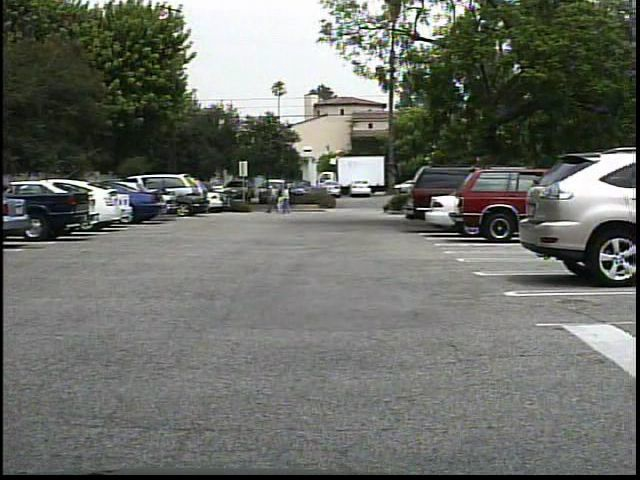person: (265, 184, 281, 216), (277, 185, 290, 215), (283, 186, 296, 216)
